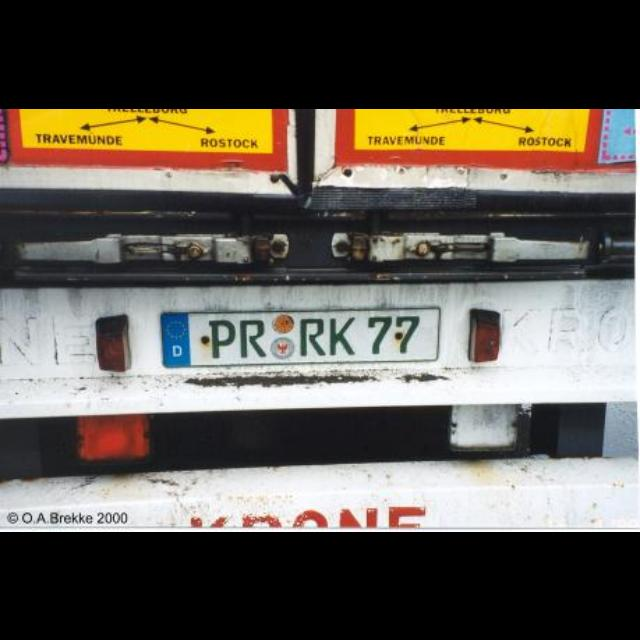d_license_plate: (160, 308, 438, 364)
